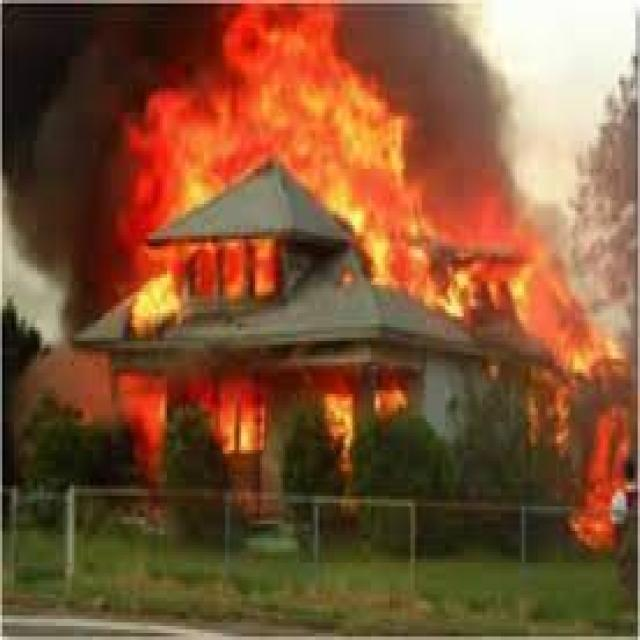Fire: (232, 1, 394, 195), (525, 271, 640, 543), (128, 83, 252, 270), (366, 198, 546, 304)
Smoke: (0, 5, 219, 325), (351, 0, 544, 205)
